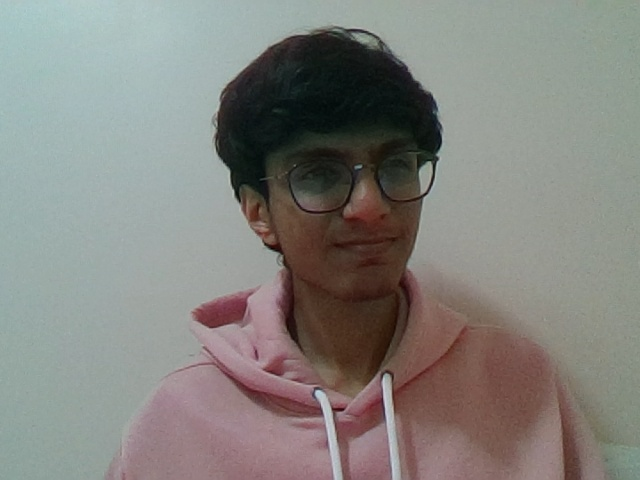Face_mask_not_found: (232, 197, 469, 306)
